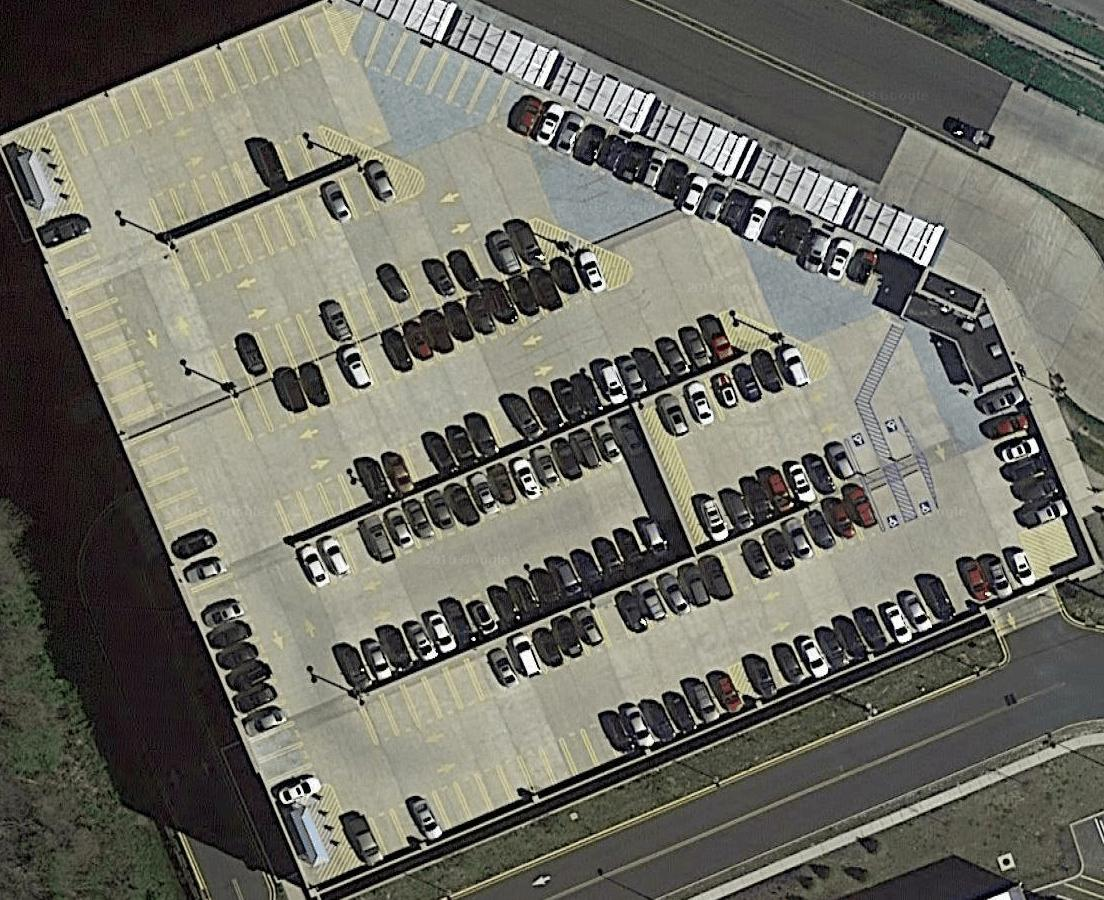parkingspot: (34, 210, 327, 810), (340, 8, 888, 303), (356, 482, 886, 748), (273, 310, 740, 544), (347, 664, 748, 867), (230, 245, 612, 444), (290, 405, 652, 597), (332, 514, 679, 698), (210, 217, 549, 399), (45, 2, 344, 169), (745, 537, 1039, 701), (166, 156, 401, 297), (695, 426, 883, 547), (145, 122, 337, 238), (656, 341, 815, 445), (969, 380, 1071, 532), (865, 474, 907, 534), (897, 462, 939, 521), (876, 412, 916, 463)
